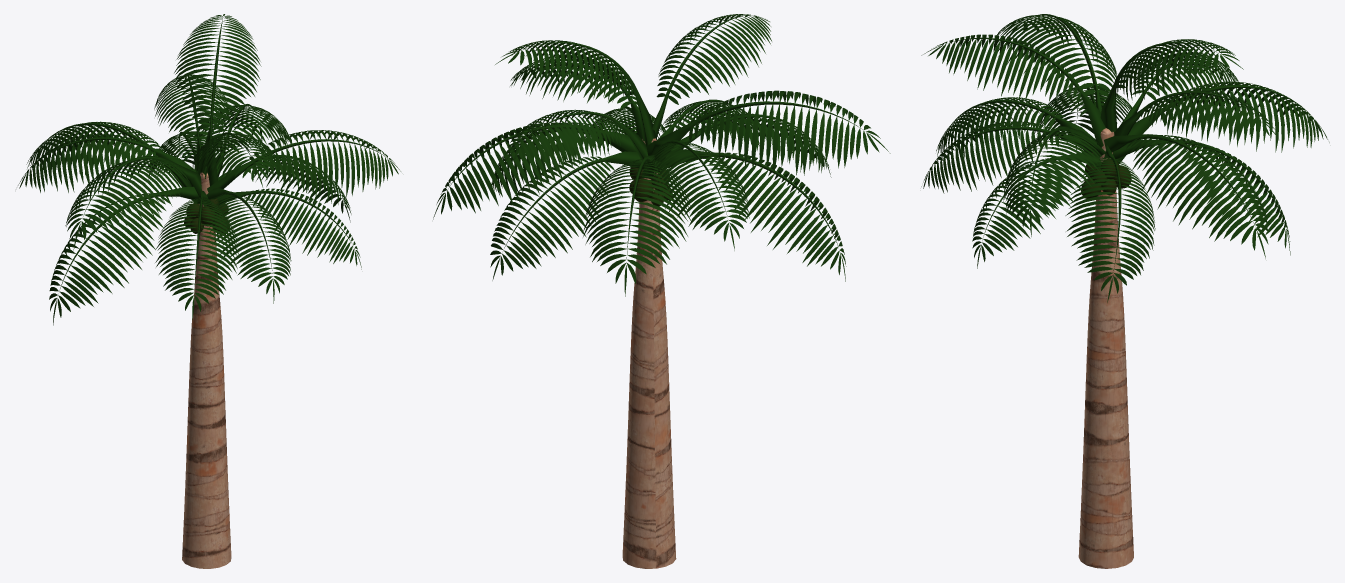
The model's file is tree_1.obj.
3 renders of one model, left to right at view 1: azimuth 30°, elevation 25°; view 2: azimuth 150°, elevation 25°; view 3: azimuth 270°, elevation 25°, orthographic. The views are drawn at different scales.
Visible parts, largest first — view 1: leaves33, pCylinder1; view 2: leaves33, pCylinder1; view 3: leaves33, pCylinder1.
Boxes of the visible parts, x1,y1,x2,y2 form: leaves33: (18,14,400,325); pCylinder1: (182,172,231,568); leaves33: (433,14,890,296); pCylinder1: (622,138,676,568); leaves33: (921,14,1329,302); pCylinder1: (1078,128,1133,568).
Bounding box in the file's own units: 9.94 × 13.64 × 9.38.
Materials: 3 (2 with a texture image).
